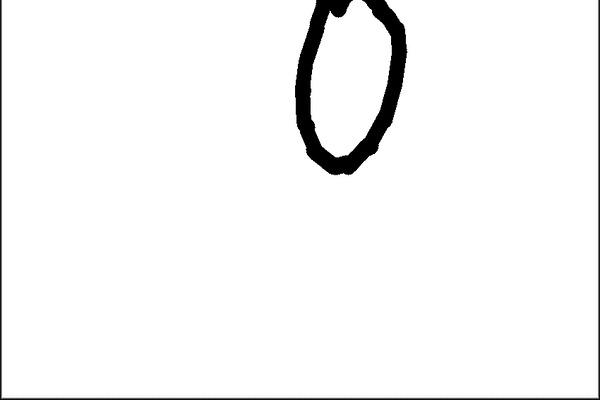O: (287, 0, 420, 187)
